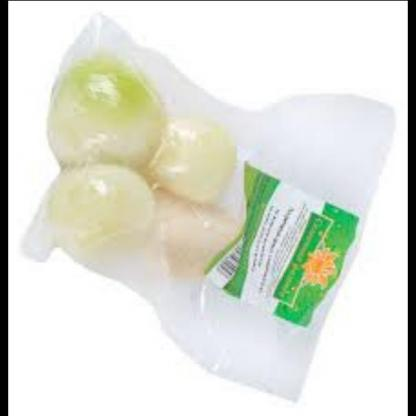onion: (45, 65, 253, 273)
